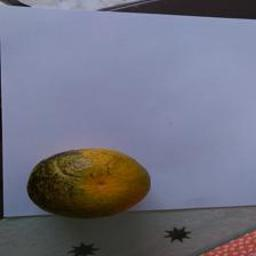Orange Semirotten: (12, 137, 158, 222)
